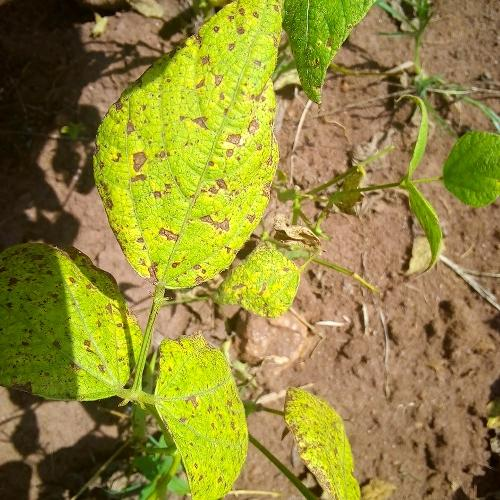hawar: (179, 4, 275, 157), (140, 258, 209, 285), (120, 140, 156, 188), (192, 174, 248, 202), (200, 211, 237, 242), (153, 224, 181, 246)
mozaik: (96, 6, 284, 284)
